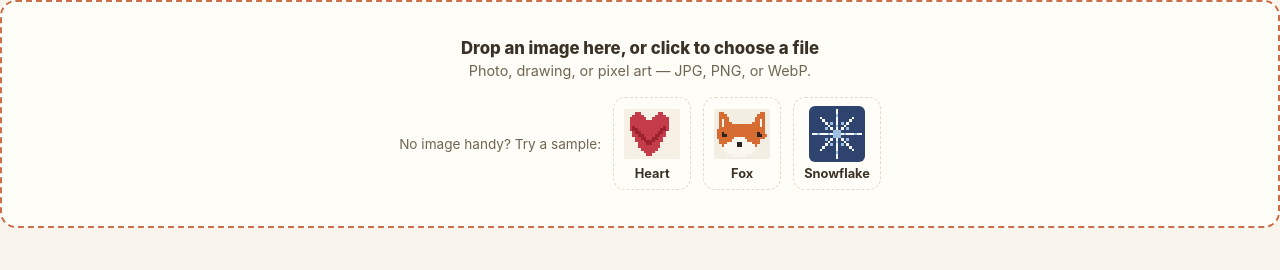
Test: ImageUploader › reports a failed sample fetch honestly (not as an unsupported format)
Click the button named "fox sample motif": [742, 144] box [703, 97, 781, 190]
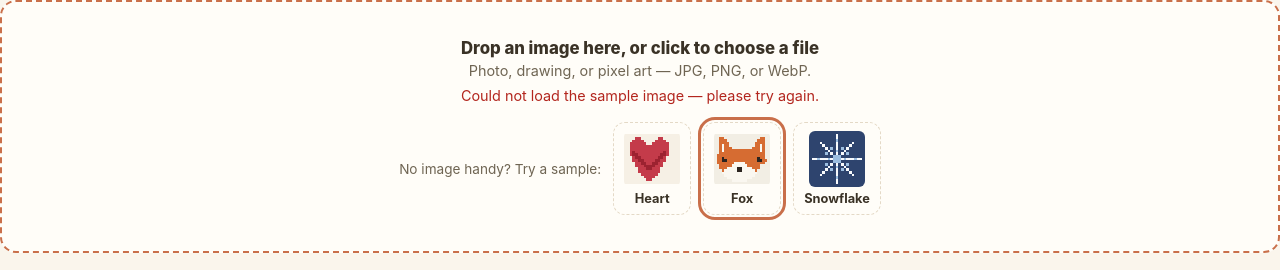
Expected: the text "Could not load the sample image — please try again." is shown, [461, 87, 819, 104]
